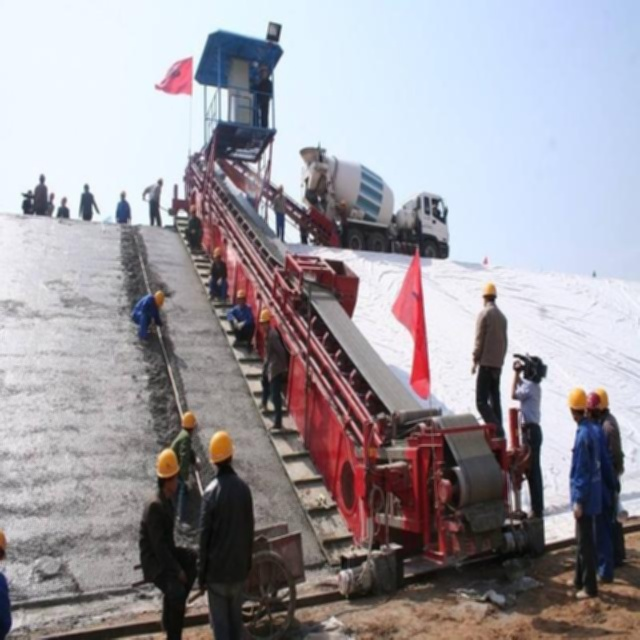Sin_Chaleco: (200, 472, 256, 583), (476, 305, 508, 368)
